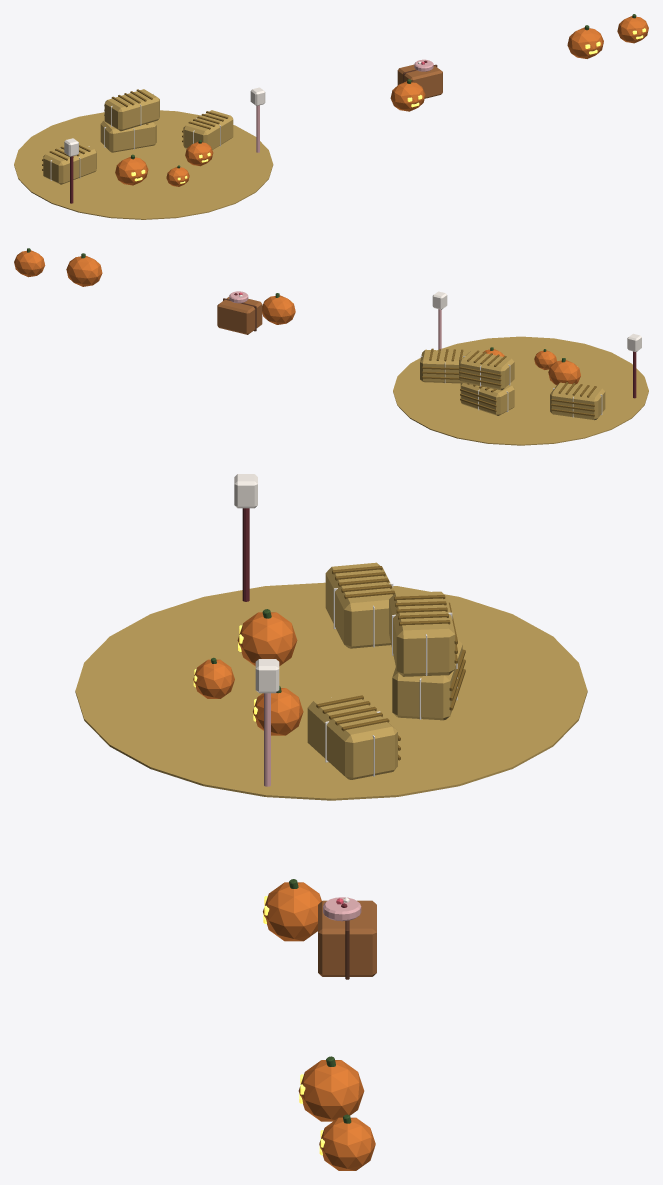
Rendered from halloween_pockets.glb.
The picture shows the model from 3 angles, top to bottom: view 1: azimuth 30°, elevation 25°; view 2: azimuth 150°, elevation 25°; view 3: azimuth 270°, elevation 25°; orthographic projection. The views are drawn at different scales.
Parts seen in each view (by area): view 1: GroundHint, Hay_B2_Body, Hay_A_Body, Hay_B_Body, Hay_C_Body, Crate, Jack_A_Body, Pumpkin_Stand_Body, Pumpkin_A_Body, Jack_B_Body, Pumpkin_B_Body, Pumpkin_C_Body; view 2: GroundHint, Hay_A_Body, Hay_B2_Body, Crate, Hay_B_Body, Hay_C_Body, Jack_A_Body, Pumpkin_Stand_Body, Jack_B_Body, Pumpkin_A_Body, Pumpkin_C_Body; view 3: GroundHint, Hay_C_Body, Hay_B2_Body, Hay_A_Body, Crate, Jack_A_Body, Hay_B_Body, Pumpkin_Stand_Body, Pumpkin_A_Body, Jack_B_Body, Pumpkin_B_Body, Pumpkin_C_Body.
Boxes of the visible parts, <box> form: GroundHint: <box>14,110,273,219</box>; Hay_B2_Body: <box>104,89,159,131</box>; Hay_A_Body: <box>43,142,96,184</box>; Hay_B_Body: <box>100,120,156,152</box>; Hay_C_Body: <box>183,110,233,149</box>; Crate: <box>397,64,442,98</box>; Jack_A_Body: <box>567,27,603,58</box>; Pumpkin_Stand_Body: <box>390,81,425,111</box>; Pumpkin_A_Body: <box>115,156,148,185</box>; Jack_B_Body: <box>617,16,648,43</box>; Pumpkin_B_Body: <box>185,141,213,166</box>; Pumpkin_C_Body: <box>166,167,189,186</box>; GroundHint: <box>393,336,648,445</box>; Hay_A_Body: <box>550,382,605,420</box>; Hay_B2_Body: <box>459,350,514,390</box>; Crate: <box>217,297,262,334</box>; Hay_B_Body: <box>460,382,514,415</box>; Hay_C_Body: <box>420,349,469,383</box>; Jack_A_Body: <box>66,256,102,286</box>; Pumpkin_Stand_Body: <box>262,295,295,324</box>; Jack_B_Body: <box>14,250,45,277</box>; Pumpkin_A_Body: <box>548,360,580,385</box>; Pumpkin_C_Body: <box>534,350,556,369</box>; GroundHint: <box>75,582,587,800</box>; Hay_C_Body: <box>307,692,397,779</box>; Hay_B2_Body: <box>389,591,455,676</box>; Hay_A_Body: <box>325,562,395,648</box>; Crate: <box>318,900,376,976</box>; Jack_A_Body: <box>298,1060,364,1121</box>; Hay_B_Body: <box>392,639,462,720</box>; Pumpkin_Stand_Body: <box>263,882,321,941</box>; Pumpkin_A_Body: <box>237,612,297,666</box>; Jack_B_Body: <box>319,1117,375,1170</box>; Pumpkin_B_Body: <box>253,688,303,735</box>; Pumpkin_C_Body: <box>193,659,234,698</box>.
Size of the model in its own units: 13.24 by 1.3 by 4.8.
